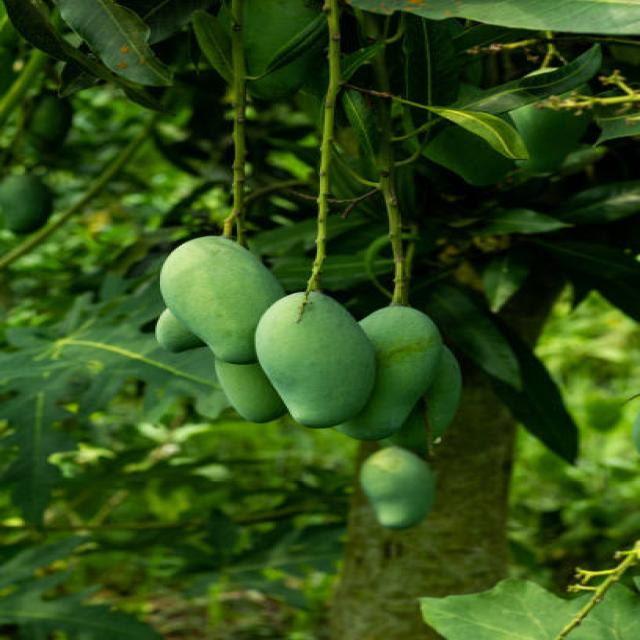mango: (255, 291, 377, 428), (159, 236, 285, 362), (339, 305, 442, 439), (360, 446, 437, 529)
